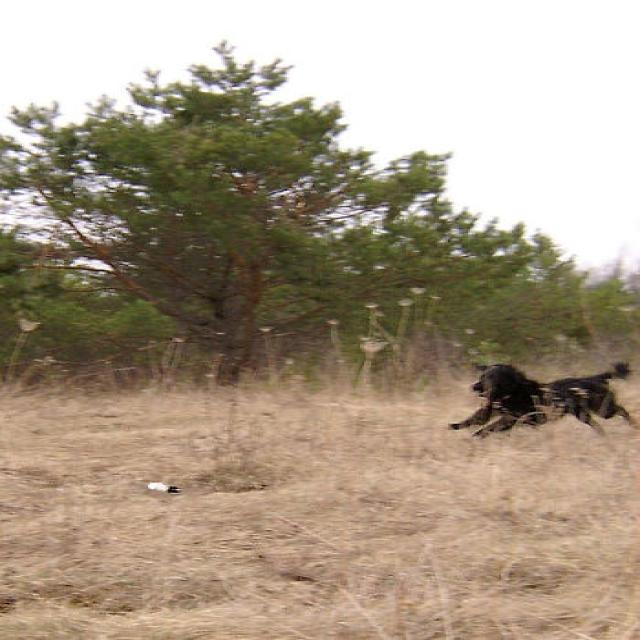dog: (451, 361, 639, 439)
